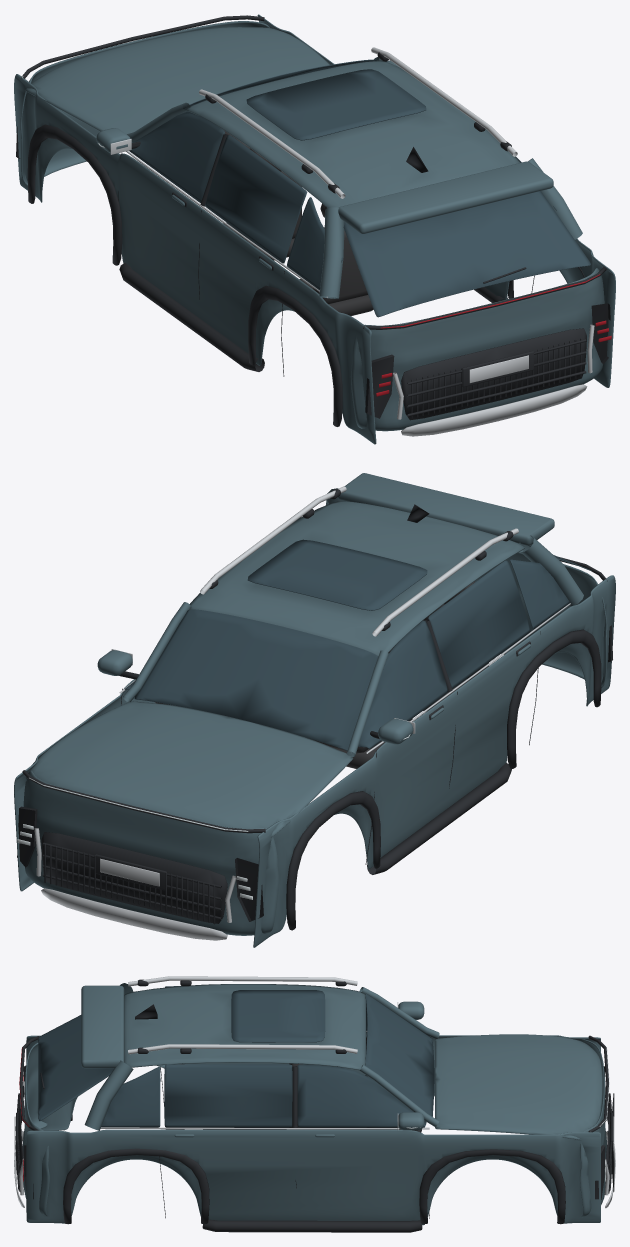
The model's file is kona-sx2-body-low.glb.
3 views of the same model, one above another, from view 1: azimuth 30°, elevation 25°; view 2: azimuth 150°, elevation 25°; view 3: azimuth 270°, elevation 25° (orthographic). The views are drawn at different scales.
Visible parts, largest first — view 1: body, glass, trim, roof, hood, interior, light; view 2: body, glass, trim, hood, roof, interior, light; view 3: body, glass, roof, hood, trim.
Boxes of the visible parts, x1=… form: body: x1=14, y1=14, x2=615, y2=444; glass: x1=110, y1=59, x2=590, y2=317; trim: x1=16, y1=15, x2=610, y2=436; roof: x1=185, y1=61, x2=553, y2=233; hood: x1=25, y1=27, x2=329, y2=134; interior: x1=223, y1=130, x2=373, y2=315; light: x1=22, y1=76, x2=611, y2=396; body: x1=14, y1=488, x2=615, y2=947; glass: x1=111, y1=500, x2=591, y2=750; trim: x1=17, y1=486, x2=612, y2=940; hood: x1=25, y1=701, x2=353, y2=837; roof: x1=189, y1=473, x2=554, y2=656; interior: x1=155, y1=581, x2=488, y2=768; light: x1=17, y1=734, x2=410, y2=899; body: x1=22, y1=983, x2=606, y2=1225; glass: x1=38, y1=986, x2=434, y2=1129; roof: x1=81, y1=984, x2=365, y2=1070; hood: x1=435, y1=1034, x2=602, y2=1139; trim: x1=14, y1=976, x2=615, y2=1232.
Bounding box in the file's own units: 2.14 × 1.47 × 4.49.
